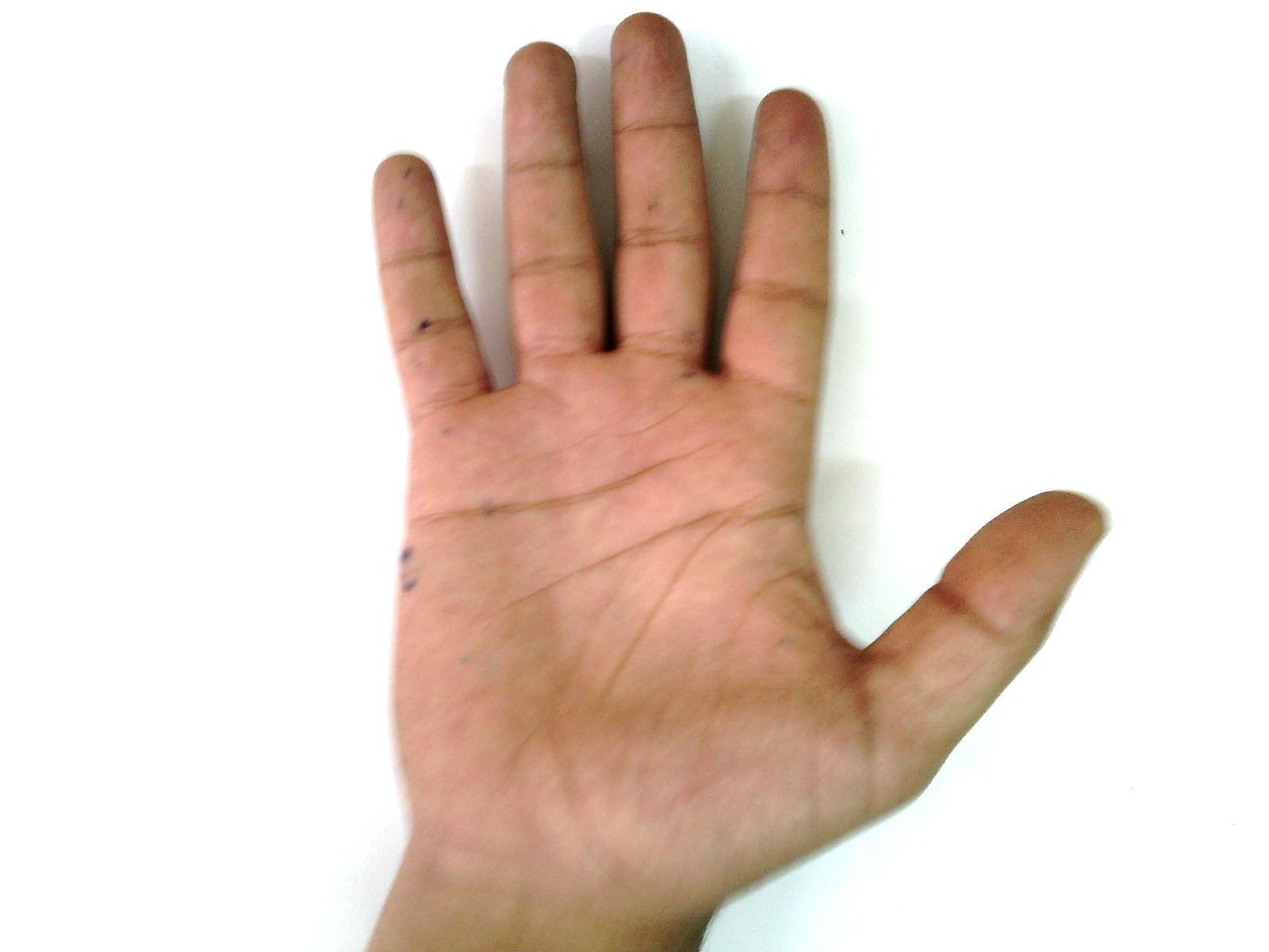open_palm: (362, 12, 1109, 922)
